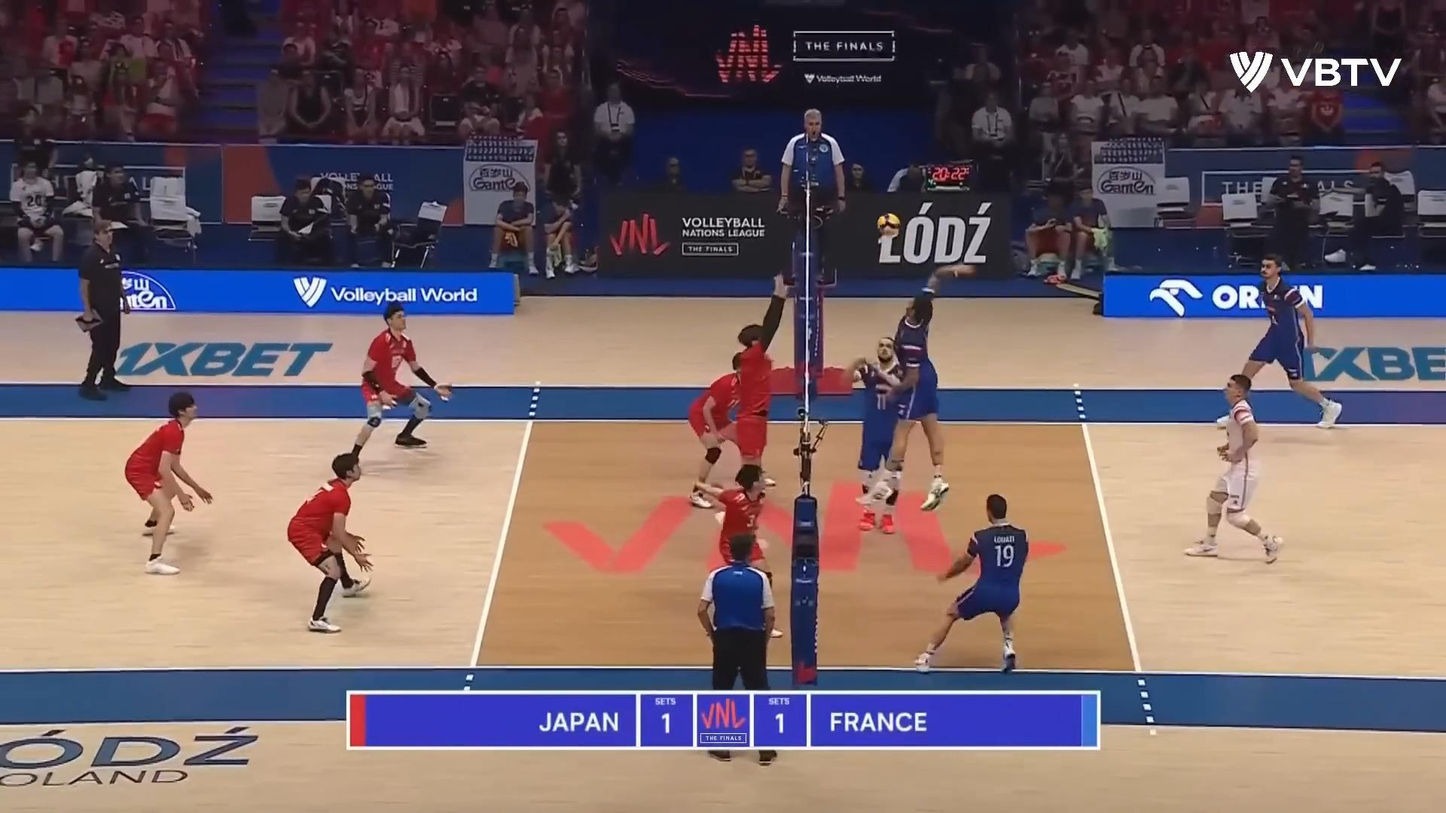ball: (878, 214, 902, 237)
